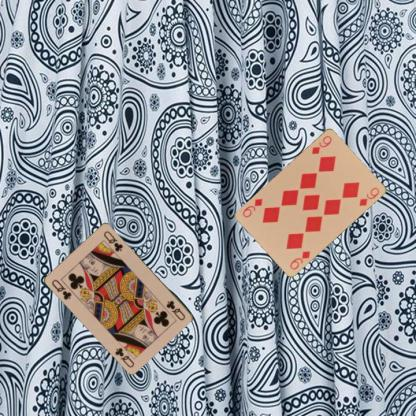9d: (287, 248, 312, 271), (309, 133, 333, 155)
Qc: (49, 277, 73, 301), (164, 297, 187, 322)
